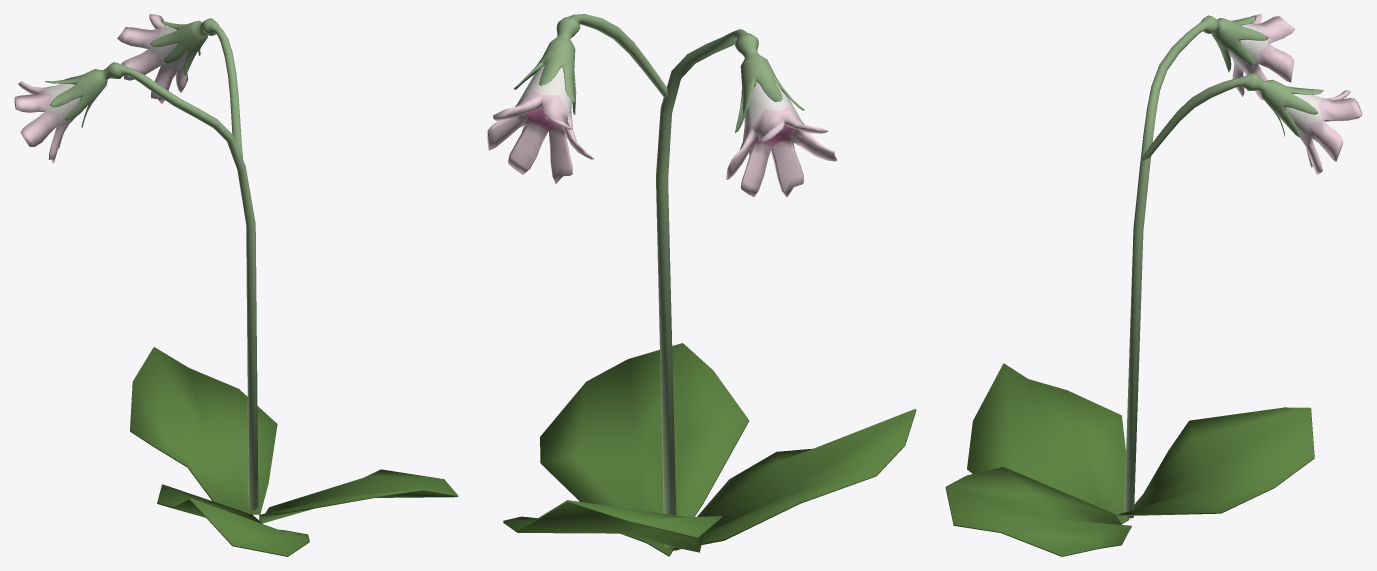
The model's file is Linnaea borealis.fbx.
3 renders of one model, left to right at view 1: azimuth 30°, elevation 25°; view 2: azimuth 150°, elevation 25°; view 3: azimuth 270°, elevation 25°, orthographic. The views are drawn at different scales.
Visible parts, largest first — view 1: Plane, Cylinder.001; view 2: Plane, Cylinder.001; view 3: Plane, Cylinder.001.
Part boxes in pixels (bbox=[...]): Plane: bbox=[130, 347, 458, 556]; Cylinder.001: bbox=[14, 14, 258, 510]; Plane: bbox=[503, 343, 916, 556]; Cylinder.001: bbox=[487, 14, 836, 548]; Plane: bbox=[945, 363, 1314, 556]; Cylinder.001: bbox=[1124, 14, 1362, 518].
Bounding box in the file's own units: 802 × 1122 × 912.
